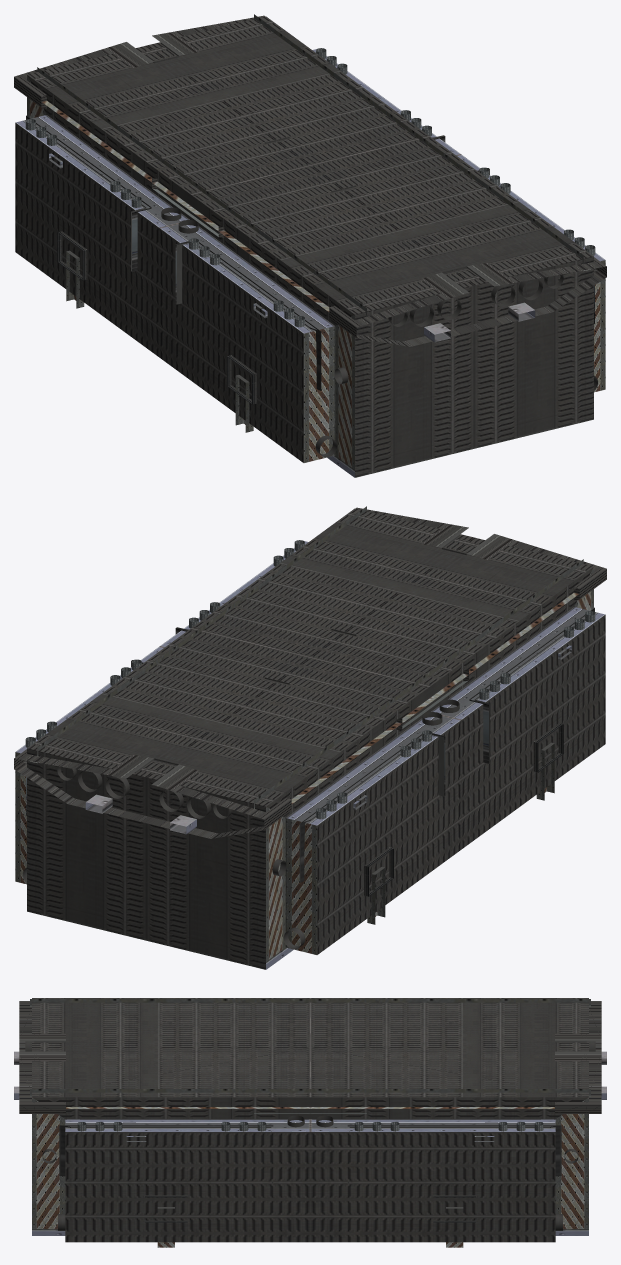
The model's file is cenainterna1.fbx.
The picture shows the model from 3 angles, top to bottom: view 1: azimuth 30°, elevation 25°; view 2: azimuth 150°, elevation 25°; view 3: azimuth 270°, elevation 25°; orthographic projection. The views are drawn at different scales.
Visible parts, largest first — view 1: Cube; view 2: Cube; view 3: Cube.
Part boxes in pixels (<box>): Cube: <box>14,14,606,477</box>; Cube: <box>14,506,606,969</box>; Cube: <box>14,998,606,1247</box>.
Bounding box in the file's own units: 17.08 × 8.76 × 32.94.
